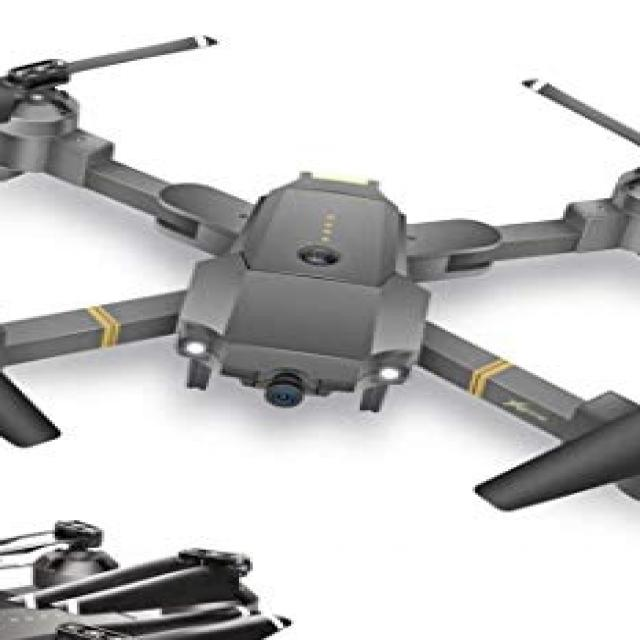drone: (0, 37, 640, 540)
